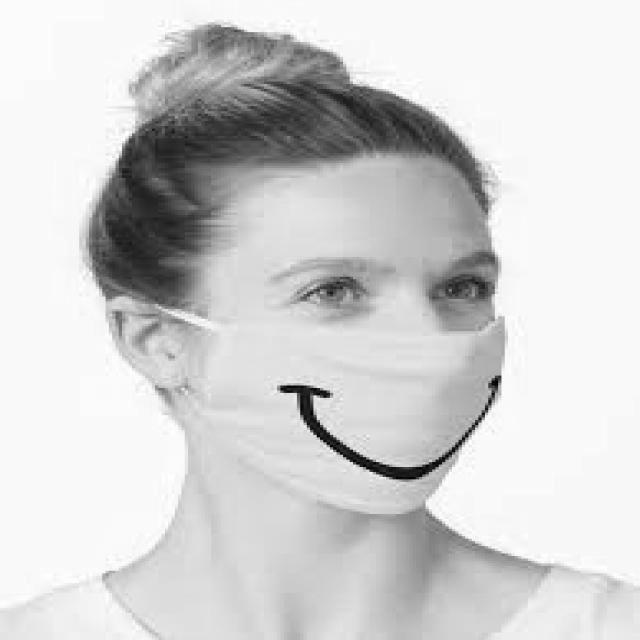fake: (183, 318, 513, 519)
real: (185, 154, 515, 525)
